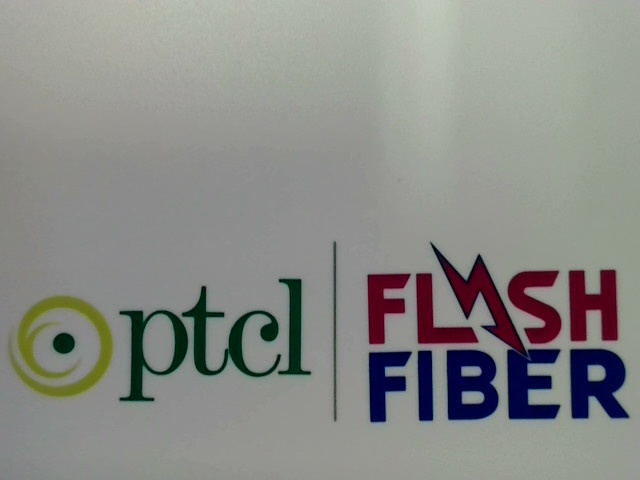BF_PTCL: (4, 277, 320, 405)
